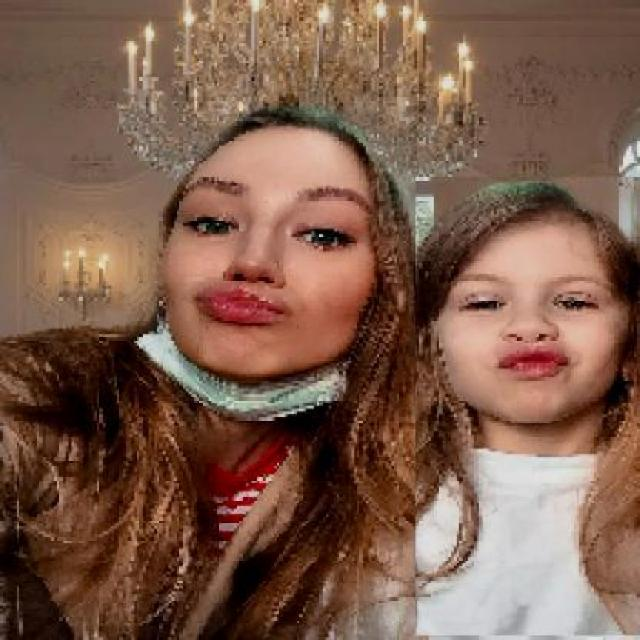child: (414, 177, 640, 637)
